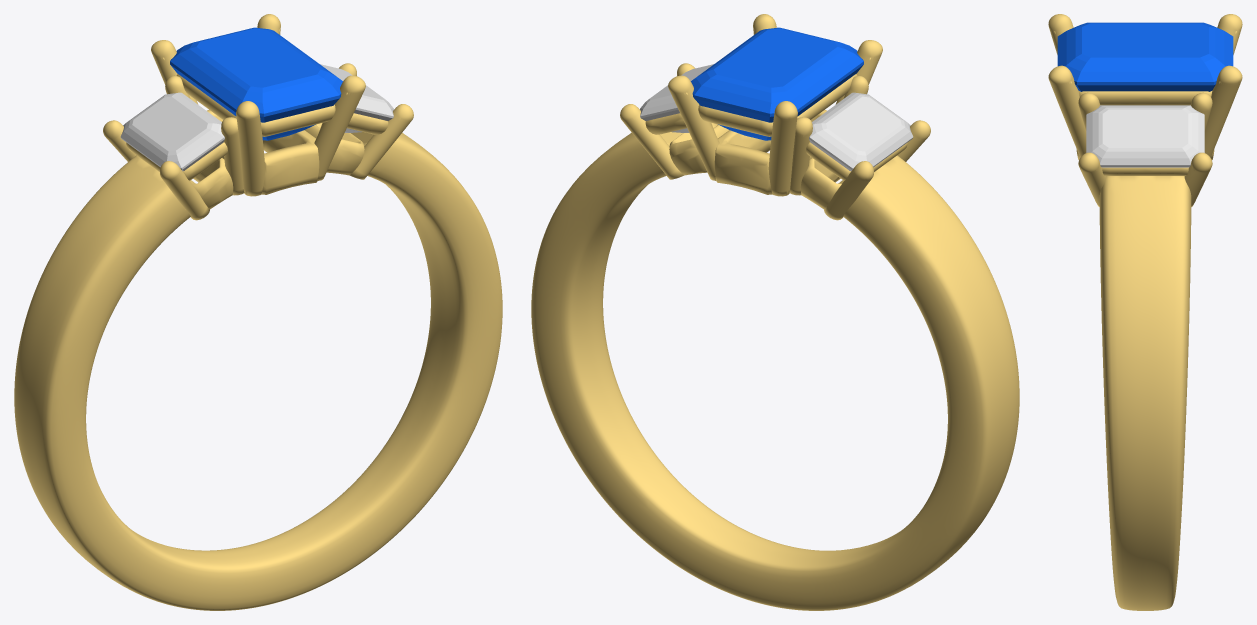
The model's file is bluesapphire-emerald-yellowgold-4prong-straighttaperedband-3stone.glb.
3 renders of one model, left to right at view 1: azimuth 30°, elevation 25°; view 2: azimuth 150°, elevation 25°; view 3: azimuth 270°, elevation 25°, orthographic.
Visible parts, largest first — view 1: metal, stone, side, side.007; view 2: metal, stone, side, side.007; view 3: metal, stone, side.007.
Boxes of the visible parts, x1,y1,x2,y2 form: metal: (14, 14, 502, 610); stone: (170, 27, 342, 140); side: (120, 92, 224, 171); side.007: (320, 64, 393, 132); metal: (531, 14, 1019, 610); stone: (691, 27, 863, 140); side: (809, 92, 913, 171); side.007: (640, 64, 713, 132); metal: (1048, 14, 1242, 610); stone: (1057, 22, 1233, 91); side.007: (1086, 105, 1204, 167).
Size of the model in its own units: 20.51 by 22.95 by 7.4.
